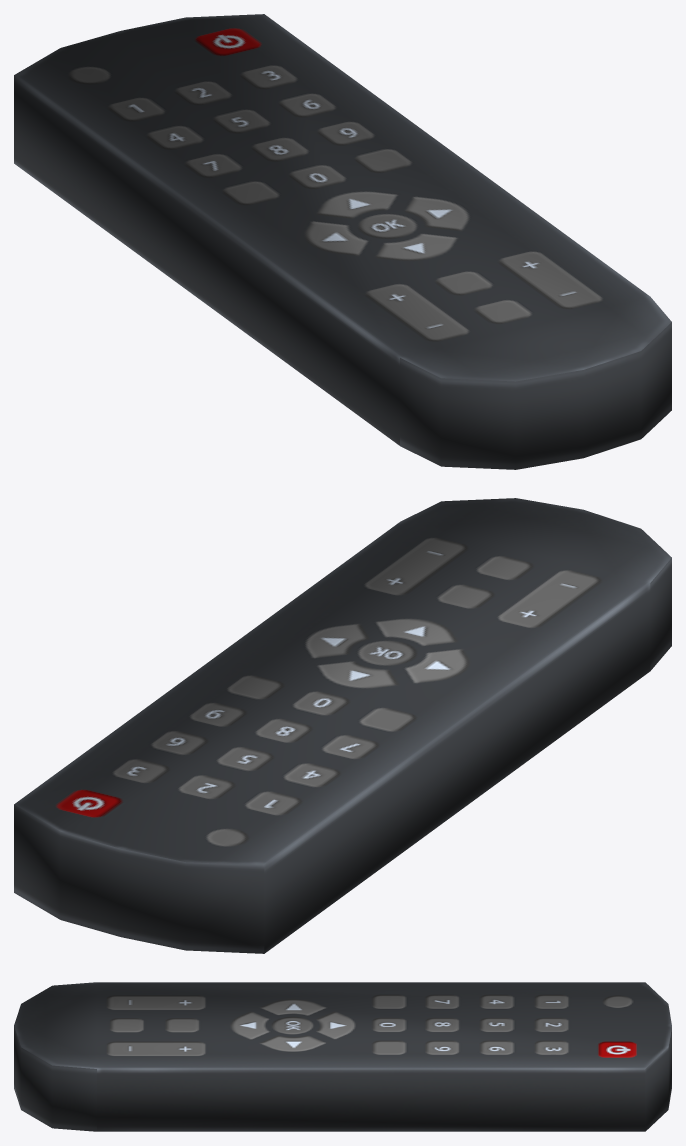
The model's file is SiZheBingFang_01_yaokongqi_01.FBX.
The picture shows the model from 3 angles, top to bottom: view 1: azimuth 30°, elevation 25°; view 2: azimuth 150°, elevation 25°; view 3: azimuth 270°, elevation 25°; orthographic projection. The views are drawn at different scales.
Visible parts, largest first — view 1: SiZheBingFang_yaokongqi_01; view 2: SiZheBingFang_yaokongqi_01; view 3: SiZheBingFang_yaokongqi_01.
Part boxes in pixels (bbox=[...]): SiZheBingFang_yaokongqi_01: bbox=[14, 14, 671, 469]; SiZheBingFang_yaokongqi_01: bbox=[14, 498, 671, 953]; SiZheBingFang_yaokongqi_01: bbox=[14, 982, 671, 1131].
Bounding box in the file's own units: 37.45 × 12.63 × 120.
